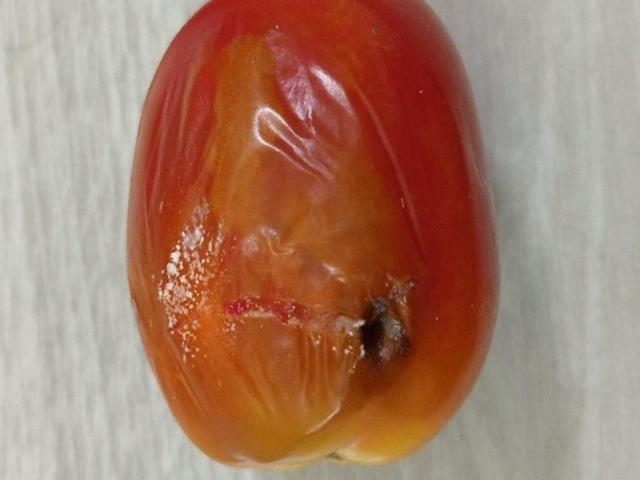defect: (123, 0, 509, 469)
